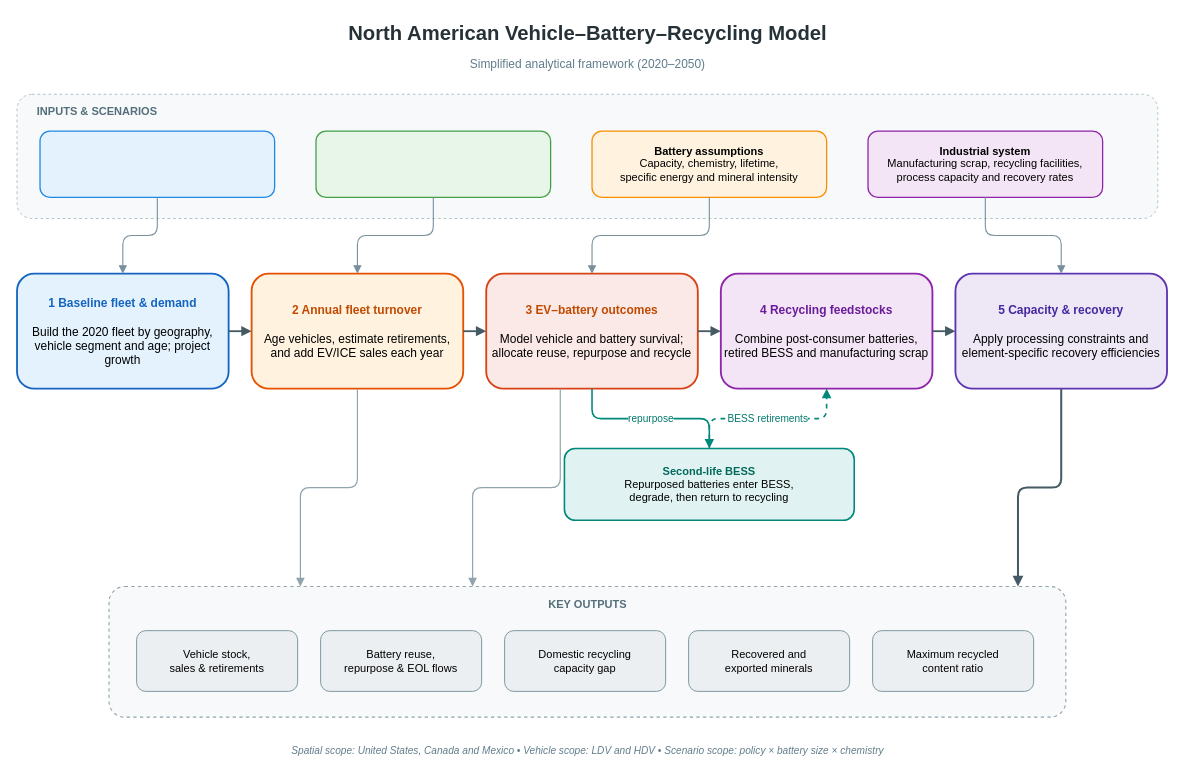
This 1183x779 diagram has some shape labels left out. The box of each missing label's shape, as (x1, y1, x2, y2) in pixels:
Fleet & demand Registrations, age structure, population and vehicle sales: (39, 130, 275, 198)
Policy & trade EV adoption schedules, baseline/rollback, exports: (315, 130, 551, 198)
